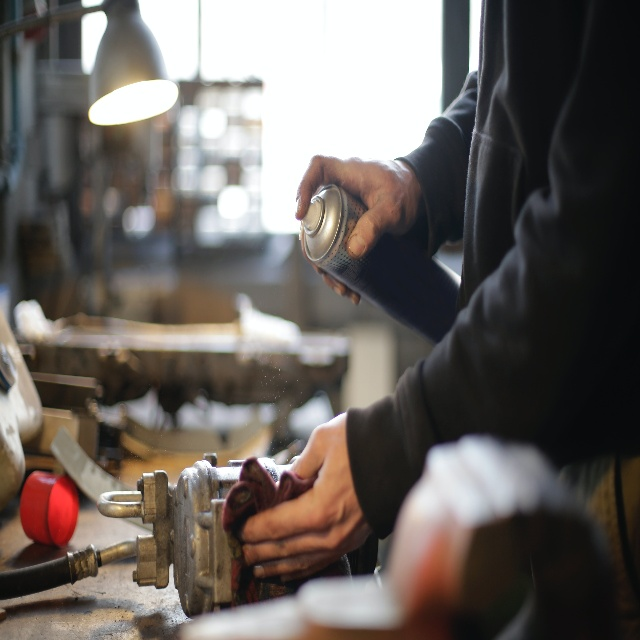Sin_guantes: (290, 118, 436, 296), (238, 405, 366, 571)
